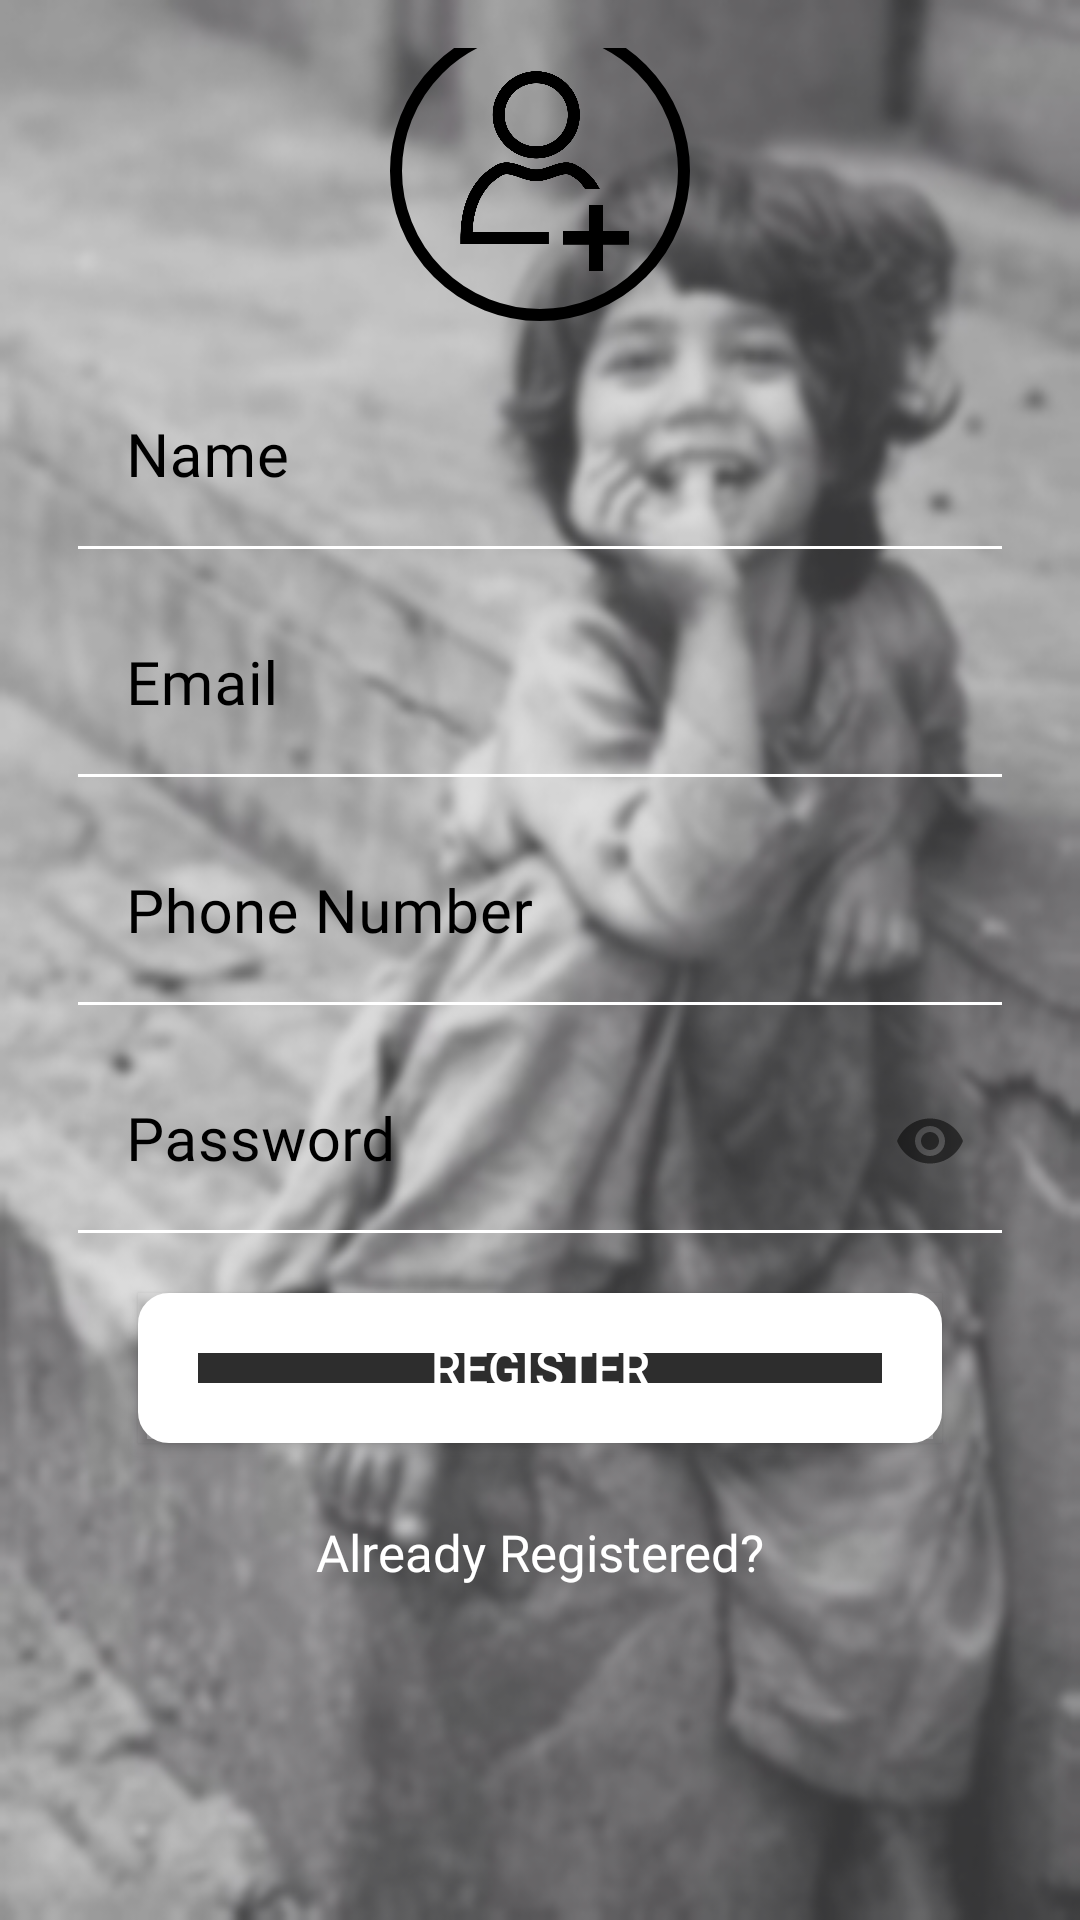

Named icons in this screenshot (1080px x 1920px) and their centers, (x=x, y=y):
add: (x=540, y=171)
